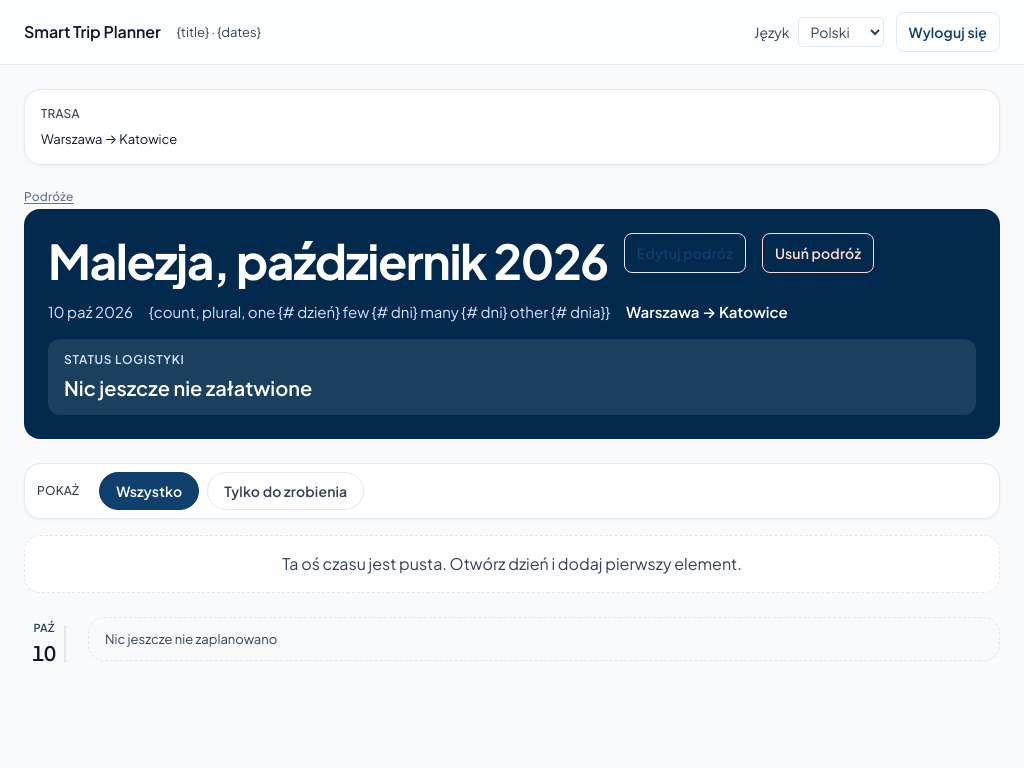
Test: deleting a trip › asks for confirmation instead of deleting straight away
The width and height of the screenshot is (1024, 768).
Expected: the heading "Malezja, październik 2026" is shown, [48,233,608,289]
Click the button "Usuń podróż".
click(818, 253)  # box [762,233,874,273]
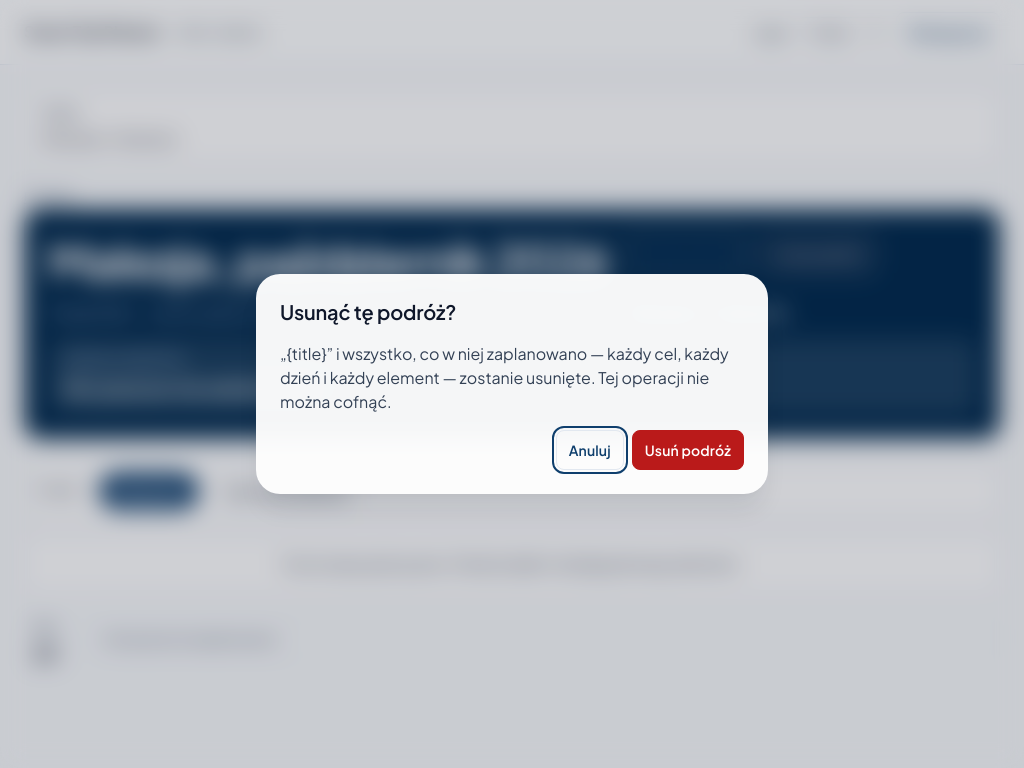
Now the dialog is shown, box [256,274,768,494]
